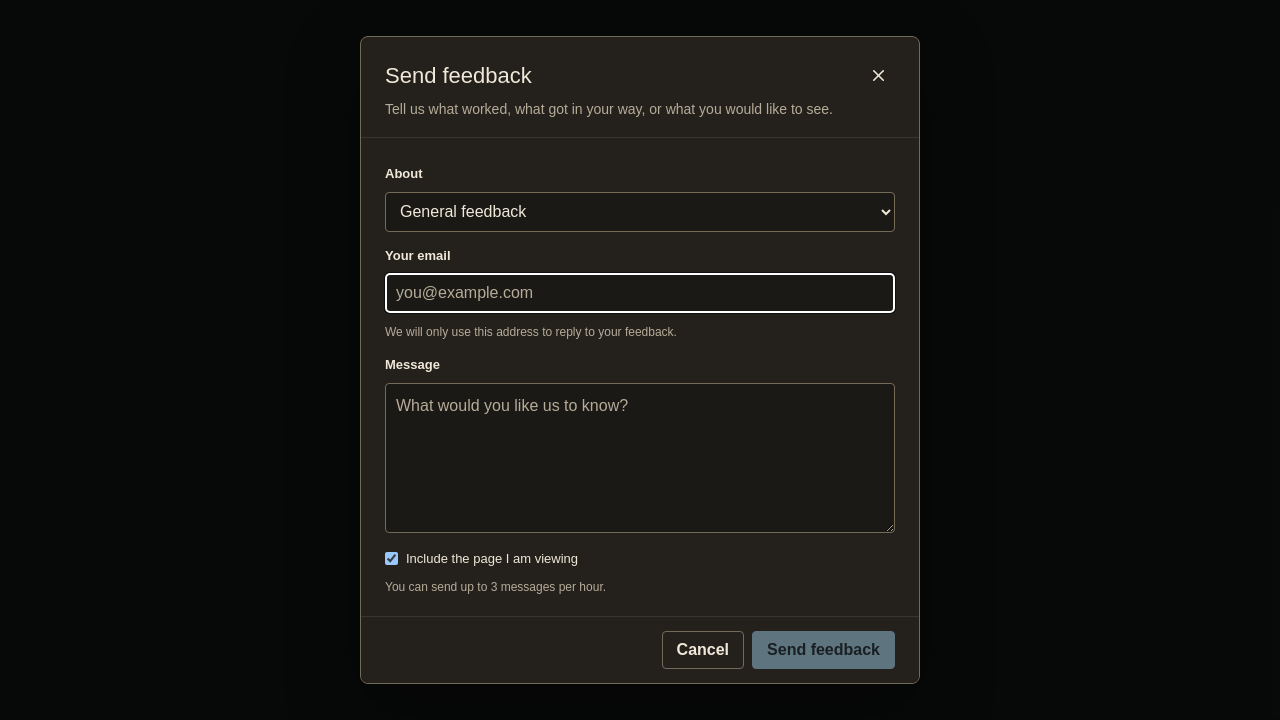
Test: FeedbackDialog › submits categorized feedback with the current page
Select "An idea or request" in the dropdown labelled "About" at (640, 212), box top-left (385, 192), bottom-right (895, 232)
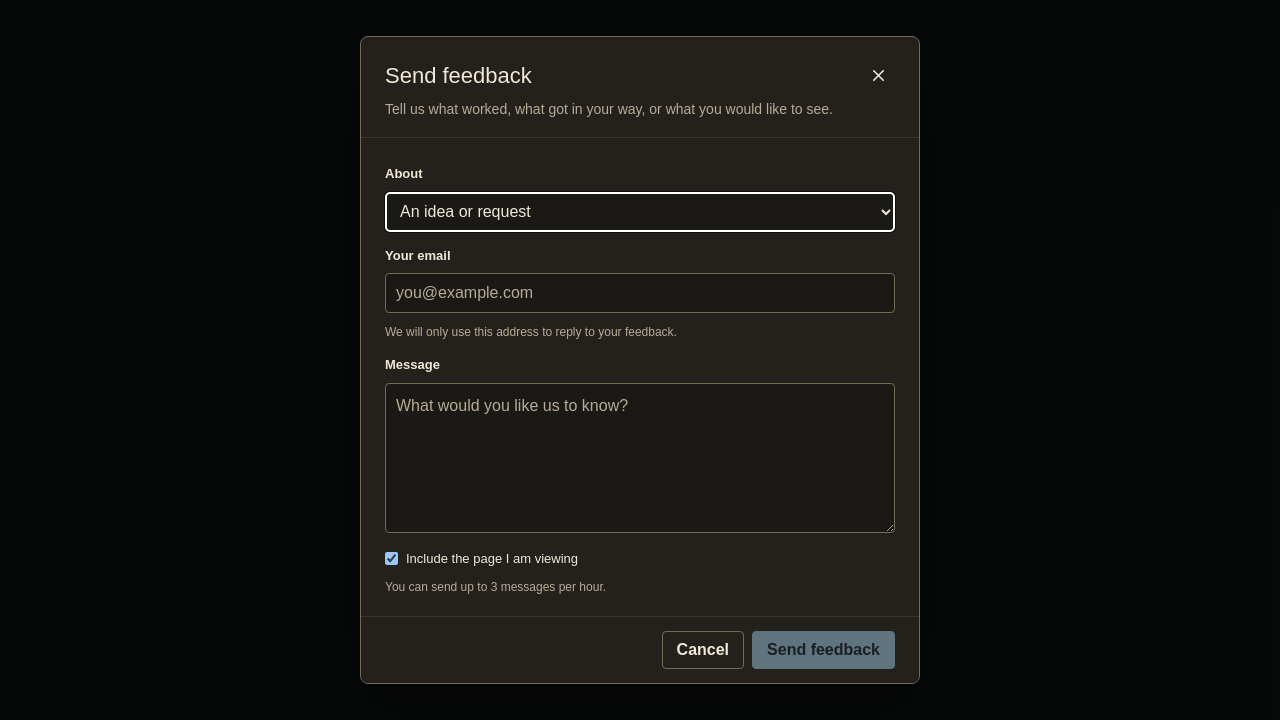
Type "reader@example.test" into the field labelled "Your email" at (640, 293), box top-left (385, 273), bottom-right (895, 313)
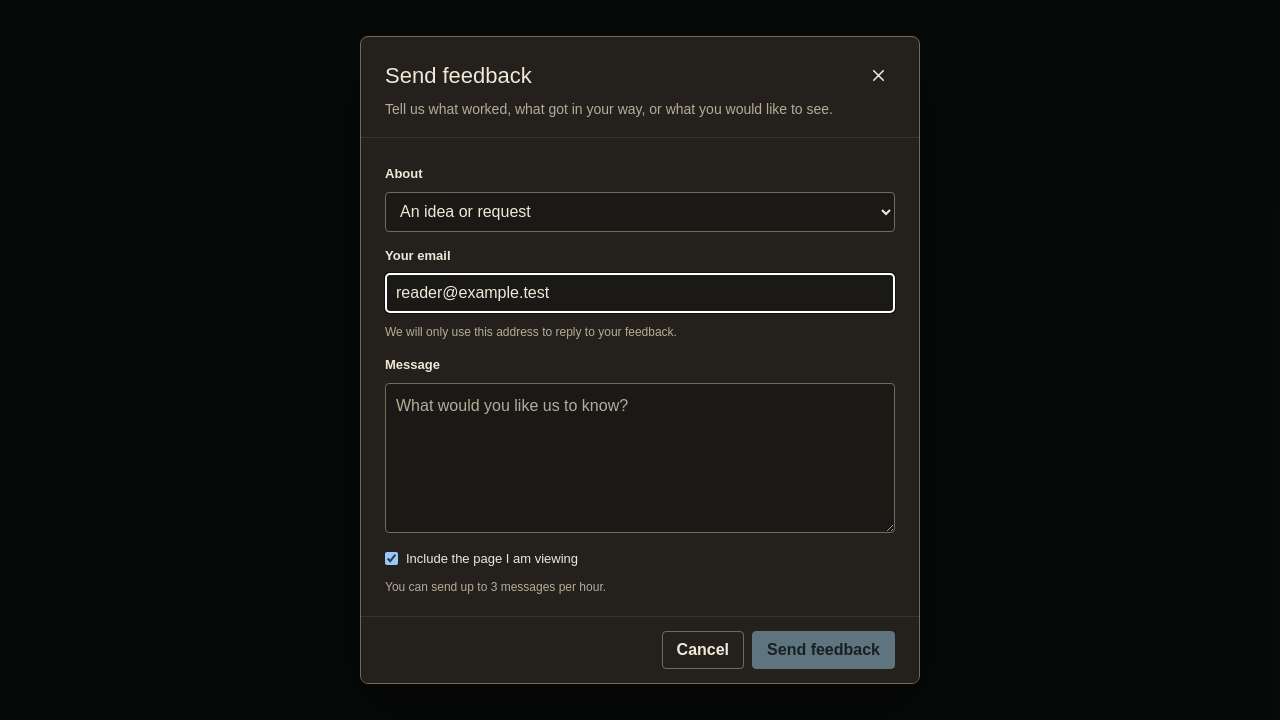
Type "Please add another publishing option." into the text box labelled "Message" at (640, 458), box top-left (385, 383), bottom-right (895, 533)
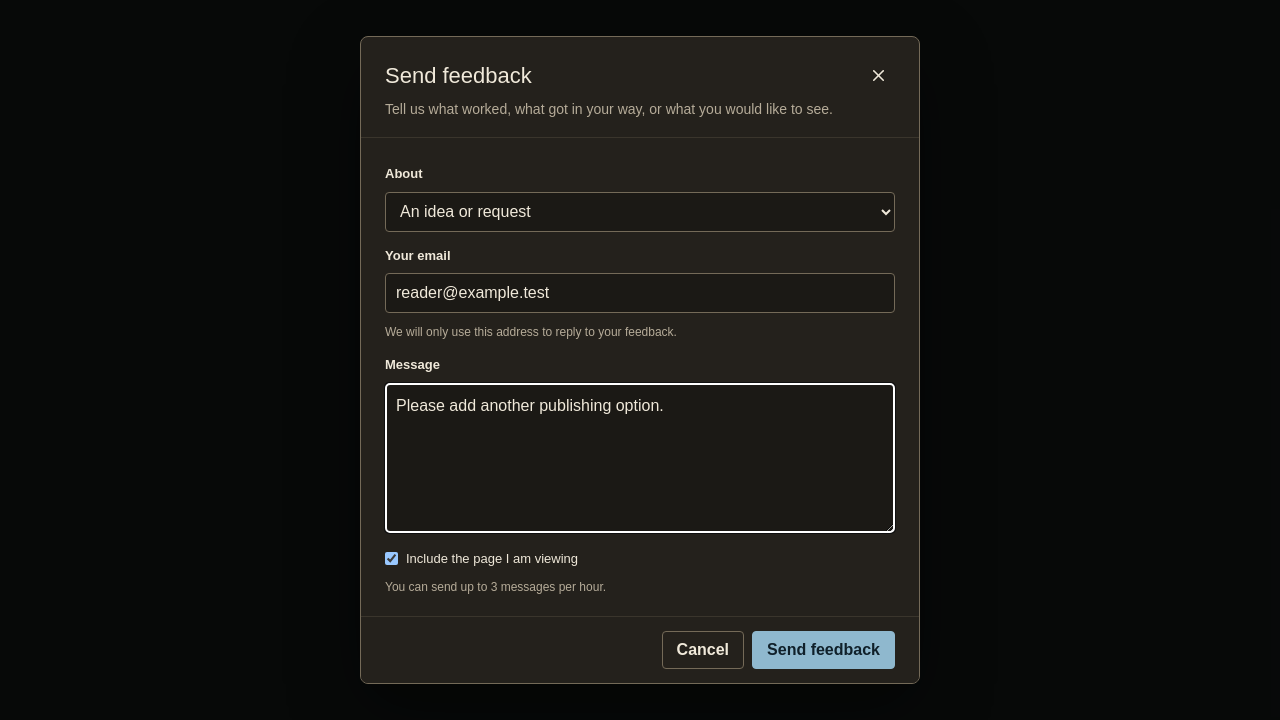
Click the button "Send feedback" at (824, 650), box top-left (752, 631), bottom-right (895, 669)
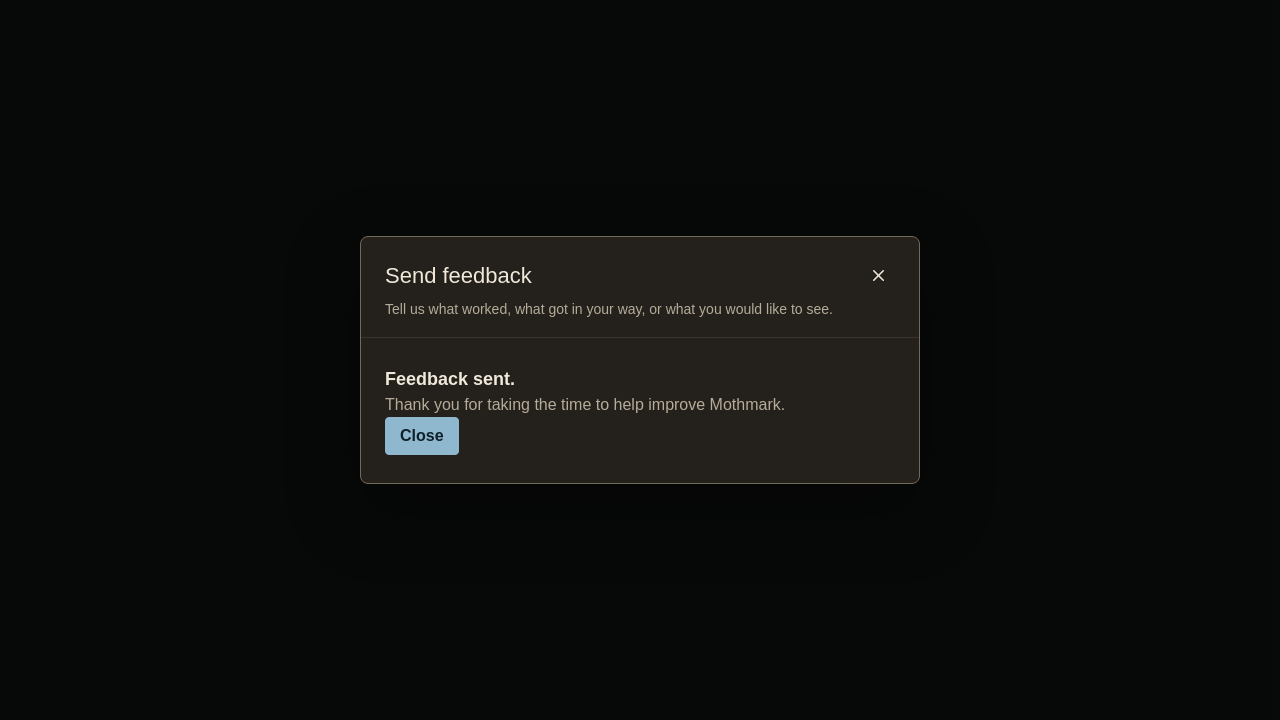
Expected: the text "Feedback sent." is shown, top-left (385, 369), bottom-right (515, 389)
